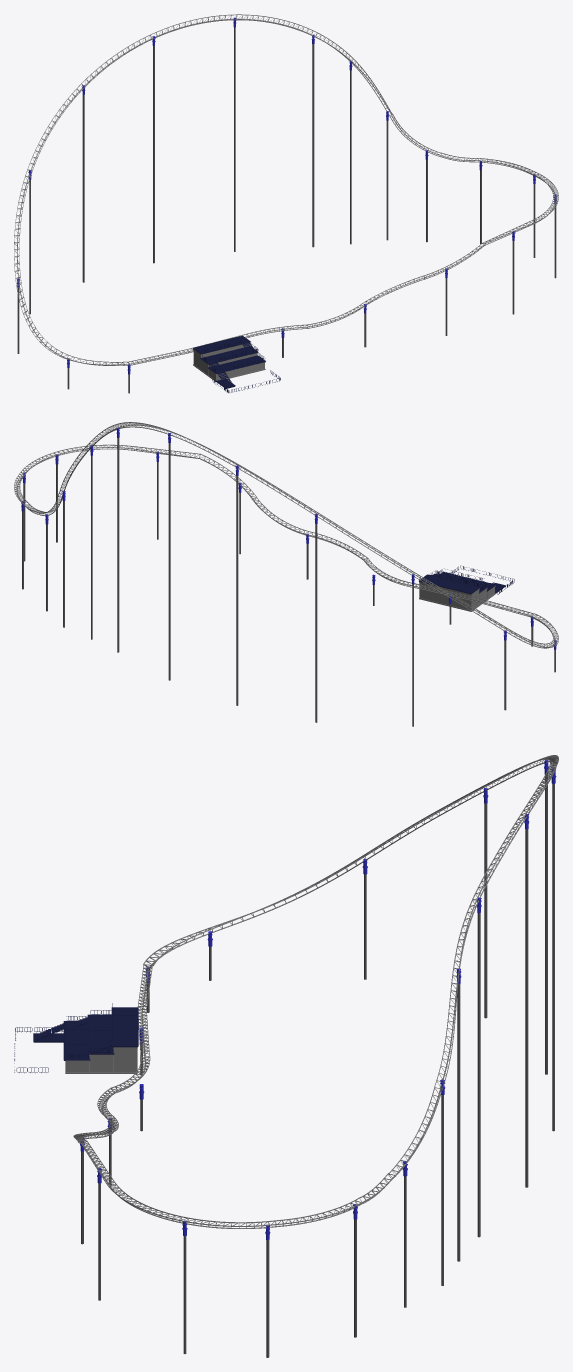
The model's file is SM_rollercoaster_ride.fbx.
3 views of the same model, one above another, from view 1: azimuth 30°, elevation 25°; view 2: azimuth 150°, elevation 25°; view 3: azimuth 270°, elevation 25° (orthographic). The views are drawn at different scales.
Parts seen in each view (by area): view 1: Line034; view 2: Line034; view 3: Line034.
Part boxes in pixels (left/top/right/bottom): Line034: left=14, top=14, right=558, bottom=393; Line034: left=14, top=422, right=558, bottom=726; Line034: left=14, top=755, right=558, bottom=1357.
Bounding box in the file's own units: 6999 × 3160 × 4122.
